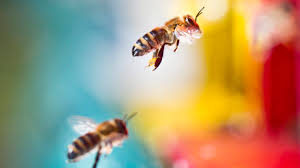insect: (131, 3, 206, 71), (64, 110, 136, 168)
